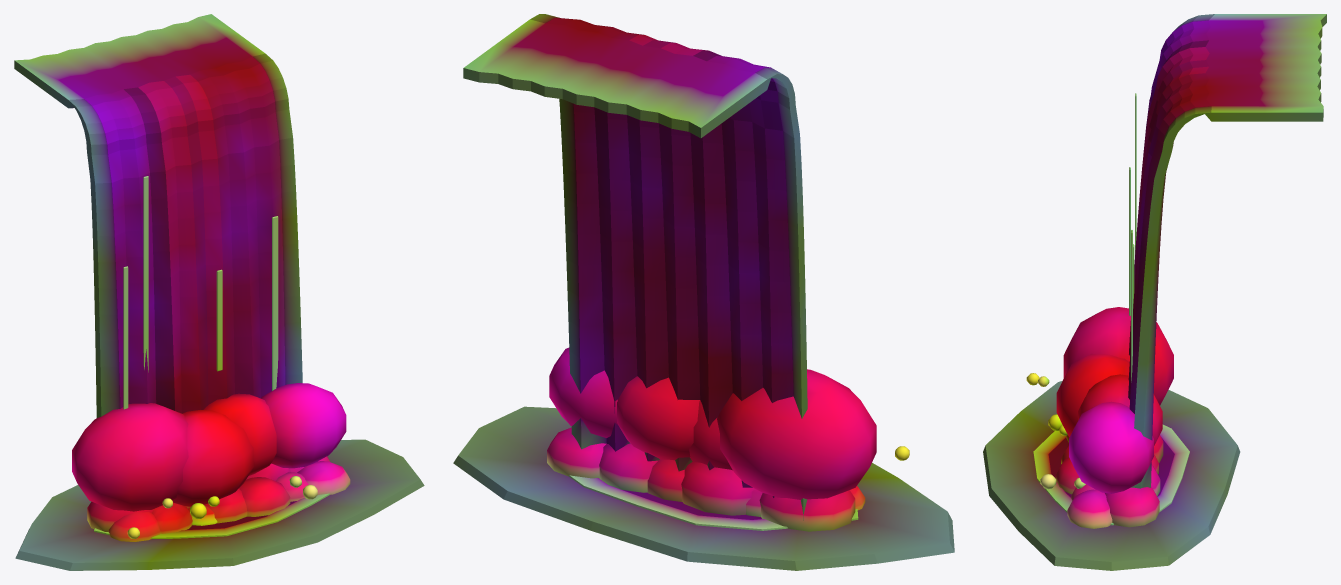
The model's file is Waterfall_Large.fbx.
The picture shows the model from 3 angles, left to right: view 1: azimuth 30°, elevation 25°; view 2: azimuth 150°, elevation 25°; view 3: azimuth 270°, elevation 25°; orthographic projection. The views are drawn at different scales.
Parts seen in each view (by area): view 1: Waterfall_Large; view 2: Waterfall_Large; view 3: Waterfall_Large.
Boxes of the visible parts, <box> form: Waterfall_Large: <box>14,14,424,570</box>; Waterfall_Large: <box>453,14,954,570</box>; Waterfall_Large: <box>983,14,1326,570</box>.
Bounding box in the file's own units: 4.81 × 4.66 × 3.53.
